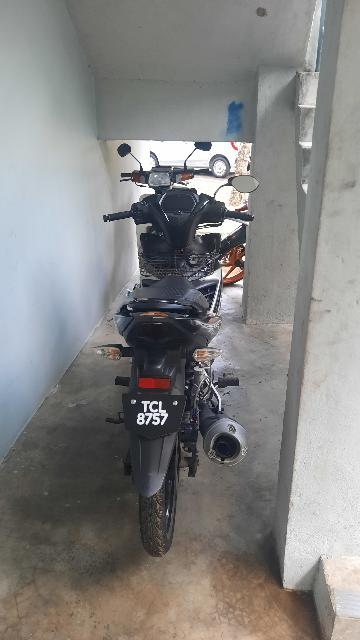License_Plate: (118, 385, 198, 445)
motorcycle: (99, 165, 271, 561)
